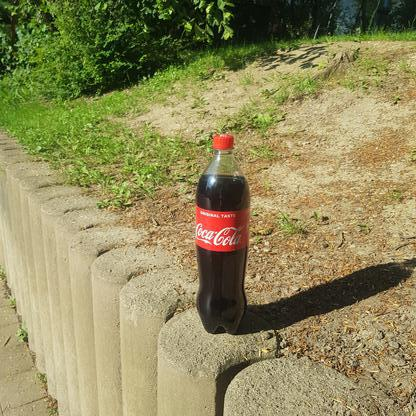coca-cola: (192, 132, 252, 338)
